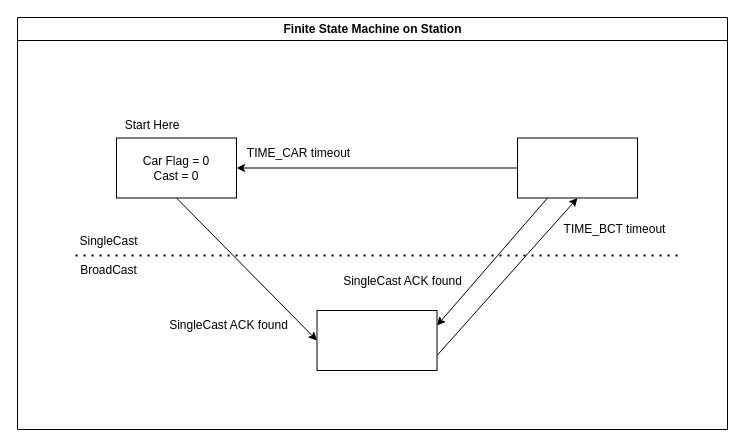
The diagram is 745 pixels wide and 447 high, and some of its shapes have lost their labels. The shapes that lost their labels are listed below. From the top down, each one's box as (x1, y1, x2, y2) in pixels, then its label:
(516, 137, 638, 198): Car Flag = 1 Cast = 0
(316, 310, 437, 370): Car Flag = 1 Cast = 1
